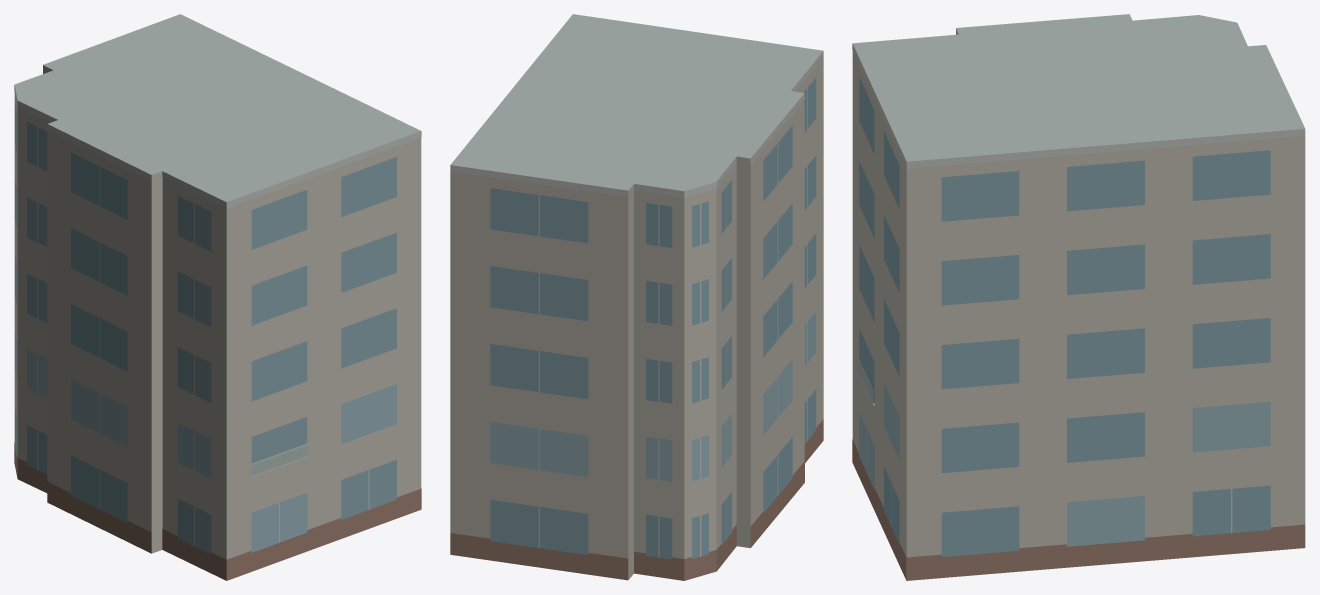
Rendered from survey-upis-32967328.glb.
3 views of the same model, side by side, from view 1: azimuth 30°, elevation 25°; view 2: azimuth 150°, elevation 25°; view 3: azimuth 270°, elevation 25° (orthographic). The views are drawn at different scales.
Parts seen in each view (by area): view 1: survey-upis-32967328.tmp; view 2: survey-upis-32967328.tmp; view 3: survey-upis-32967328.tmp.
Part boxes in pixels (box(x1,y1,x2,y2)): survey-upis-32967328.tmp: box(14, 14, 421, 580); survey-upis-32967328.tmp: box(450, 14, 823, 580); survey-upis-32967328.tmp: box(852, 14, 1305, 580).
Bounding box in the file's own units: 10.97 × 14.5 × 14.21.
